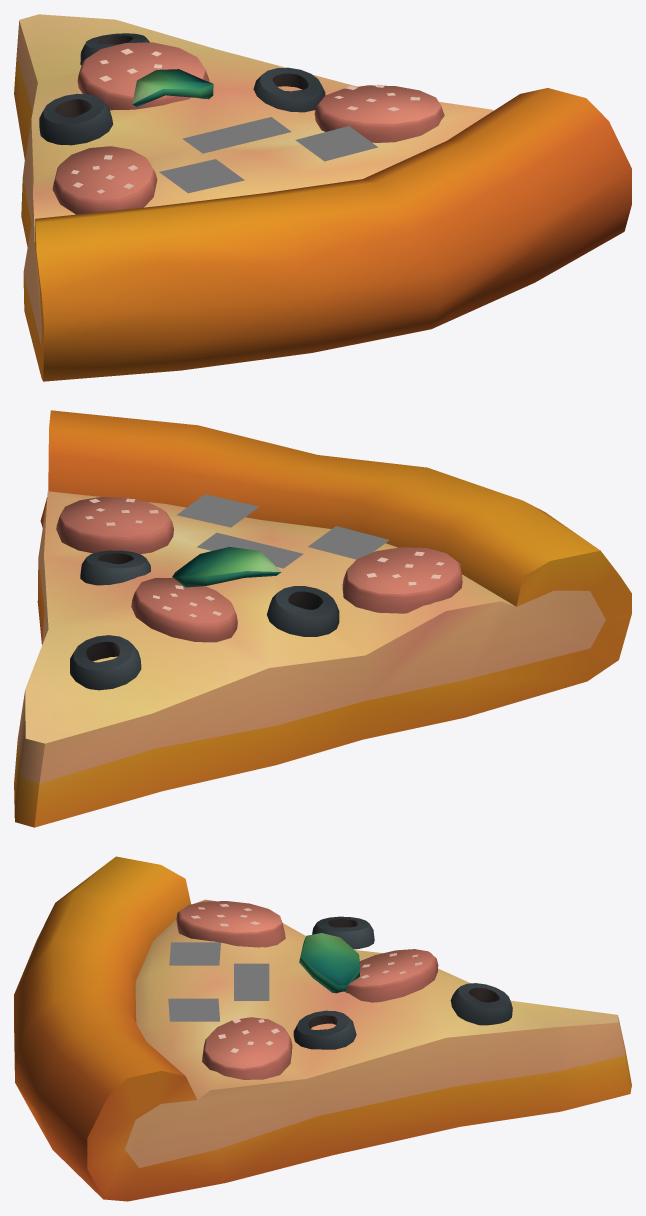
The model's file is pizza_slice_smile.fbx.
3 views of the same model, one above another, from view 1: azimuth 30°, elevation 25°; view 2: azimuth 150°, elevation 25°; view 3: azimuth 270°, elevation 25° (orthographic). The views are drawn at different scales.
Visible parts, largest first — view 1: pizza_slice_smile; view 2: pizza_slice_smile; view 3: pizza_slice_smile.
Part boxes in pixels (x1=…): pizza_slice_smile: x1=14, y1=14, x2=631, y2=381; pizza_slice_smile: x1=14, y1=410, x2=631, y2=827; pizza_slice_smile: x1=14, y1=856, x2=631, y2=1201.
Bounding box in the file's own units: 80.94 × 85.23 × 20.79.
Materials: 2 (1 with a texture image).
